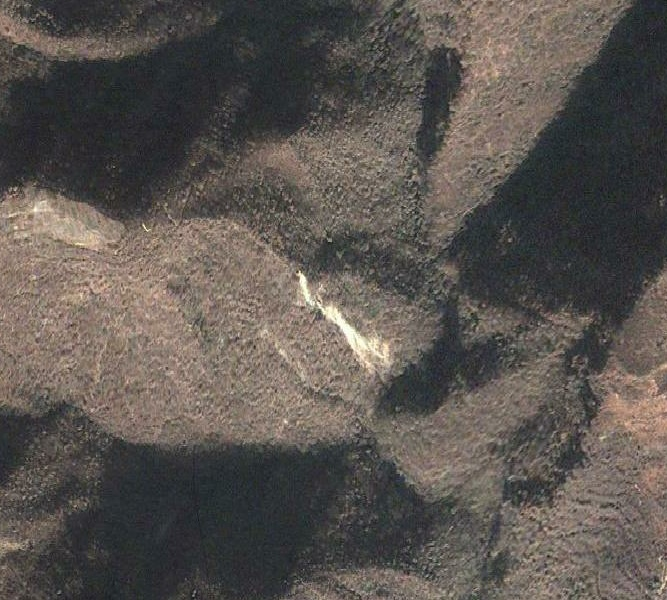slope: (293, 266, 395, 380)
